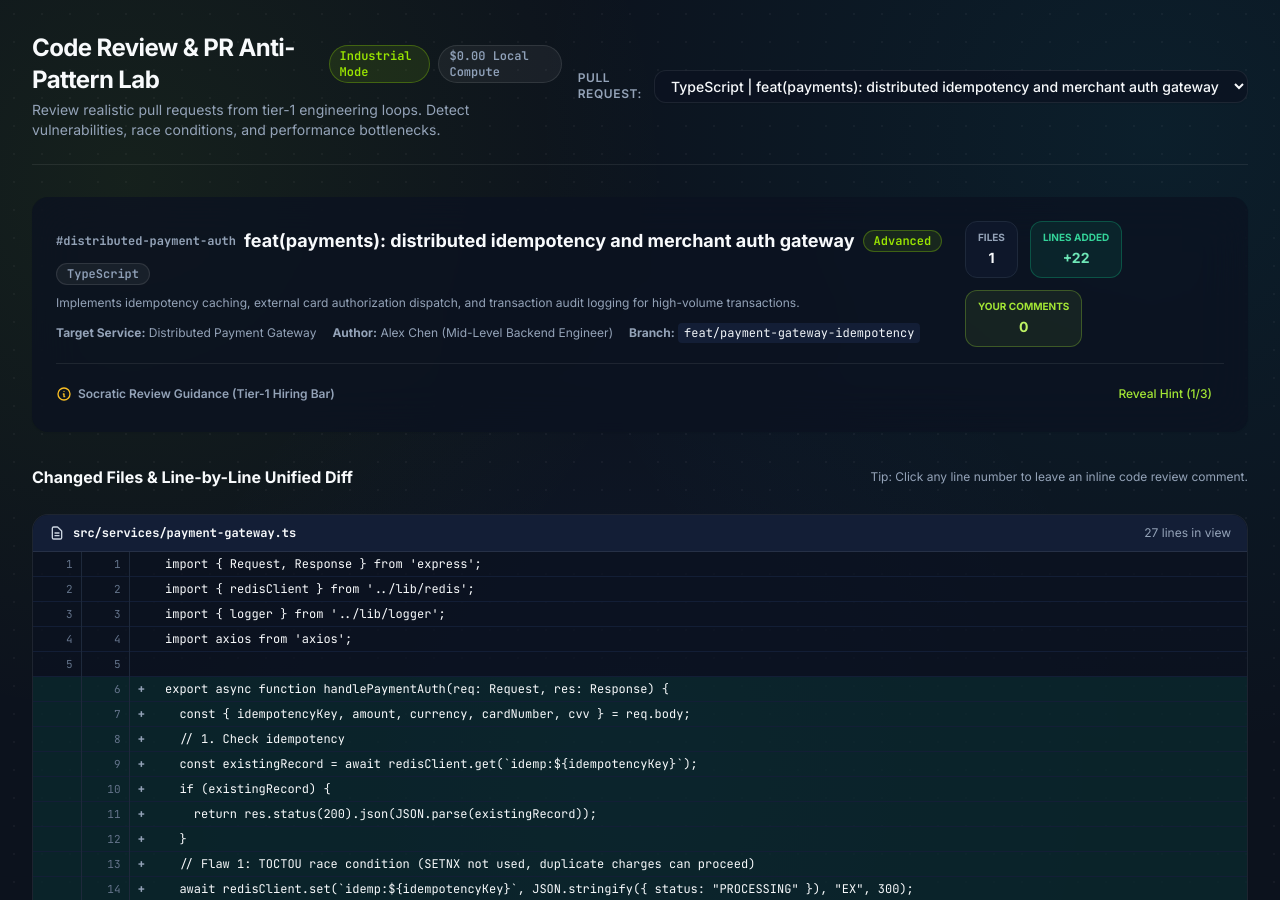
CodeReviewPage › switches to a different PR when selected from dropdown
Select "Python | feat(feed): timeline feed ranking and author profile aggregator" in the dropdown labelled "Pull Request:" at x=951, y=86, box [654,70,1248,102]
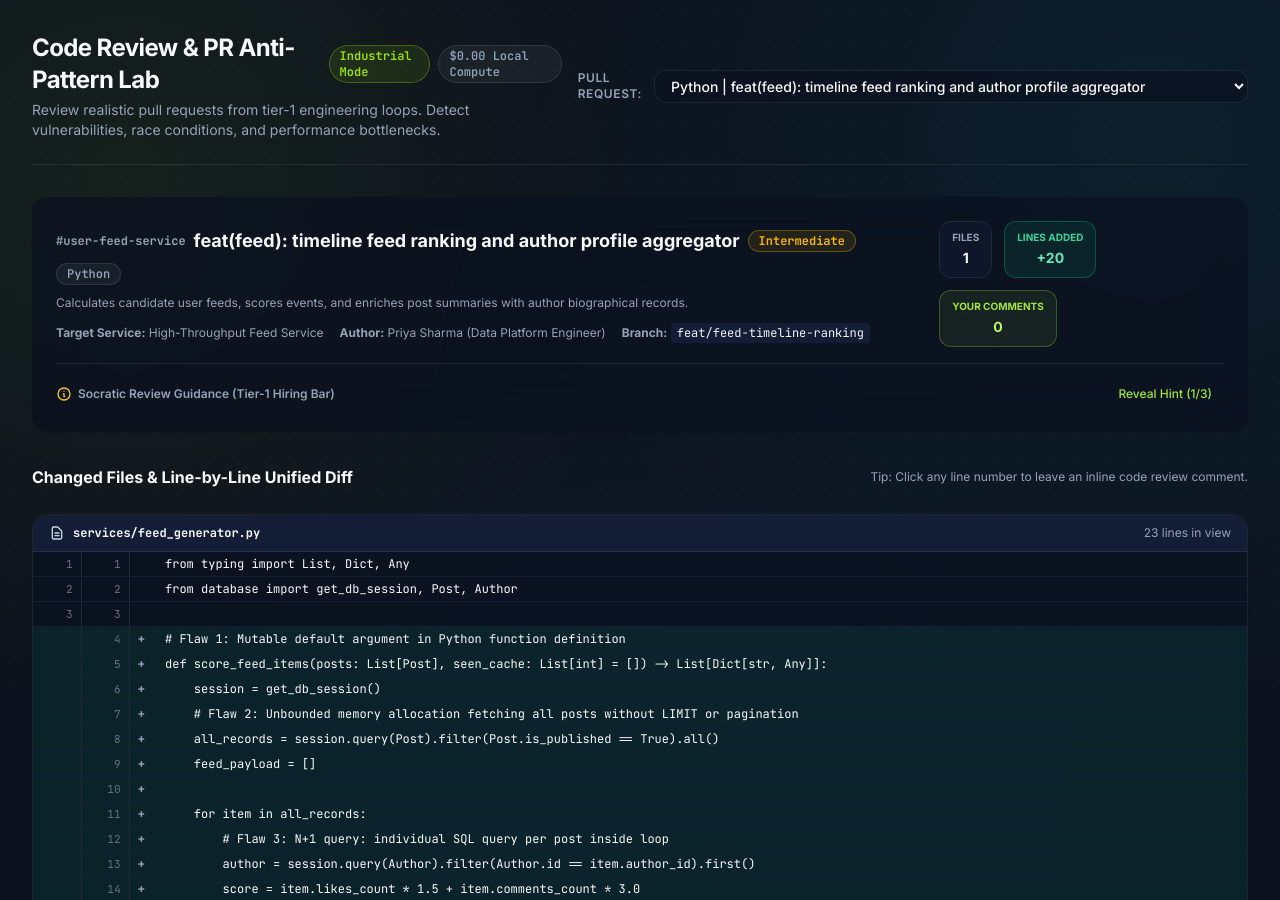
Expected: the heading "feat(feed): timeline feed ranking and author profile aggregator" is shown, [194,227,740,255]
Expected: the text "Author: Priya Sharma (Data Platform Engineer)" is shown, [340,325,606,341]
